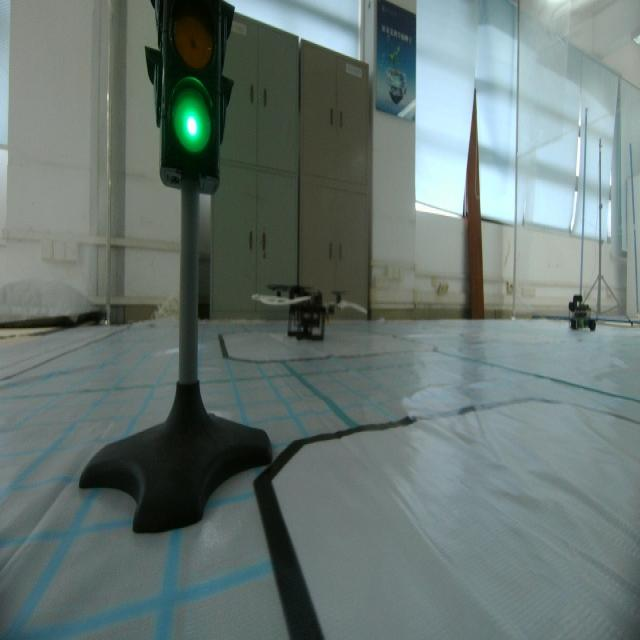green: (151, 0, 229, 182)
